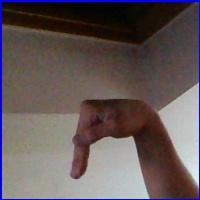A: (69, 94, 159, 183)
